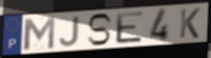4: (148, 7, 171, 44)
E: (115, 10, 145, 45)
J: (58, 15, 81, 48)
K: (178, 7, 201, 40)
M: (22, 15, 57, 51)
S: (86, 12, 114, 47)
